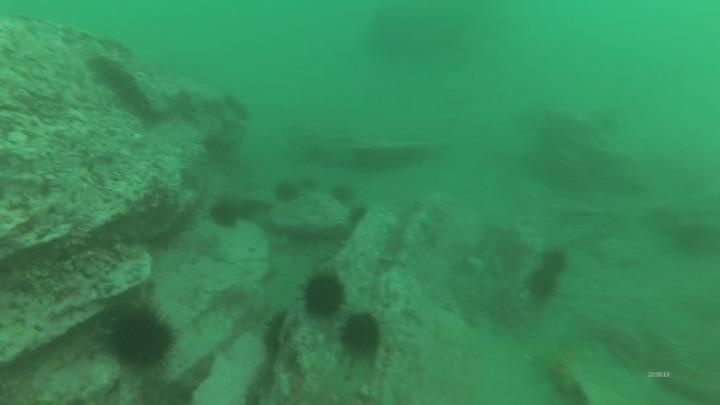echinus: (105, 305, 179, 373), (299, 270, 347, 320), (338, 311, 383, 358), (666, 220, 718, 260), (259, 308, 290, 361), (525, 267, 560, 301), (208, 198, 242, 231), (538, 245, 571, 277), (272, 179, 302, 205), (328, 181, 358, 207), (344, 203, 370, 229)
starfish: (415, 208, 450, 248)
